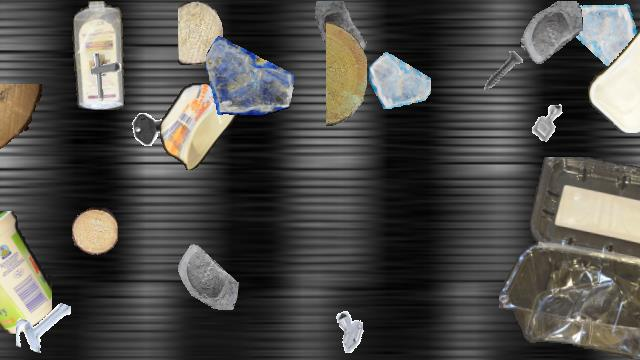glass: (206, 29, 294, 117), (165, 235, 239, 309), (567, 1, 639, 73), (311, 1, 375, 65), (369, 47, 431, 109), (520, 1, 582, 63), (611, 240, 640, 316)
metal: (16, 298, 70, 352), (76, 49, 130, 103), (477, 45, 531, 99), (522, 97, 574, 149), (330, 308, 374, 352), (130, 107, 172, 149)
plastic: (499, 157, 640, 359), (160, 83, 238, 169), (0, 211, 52, 335), (70, 1, 128, 109), (587, 21, 640, 133)
wood: (326, 22, 366, 126), (0, 84, 43, 164), (178, 1, 222, 65), (72, 207, 118, 255)
